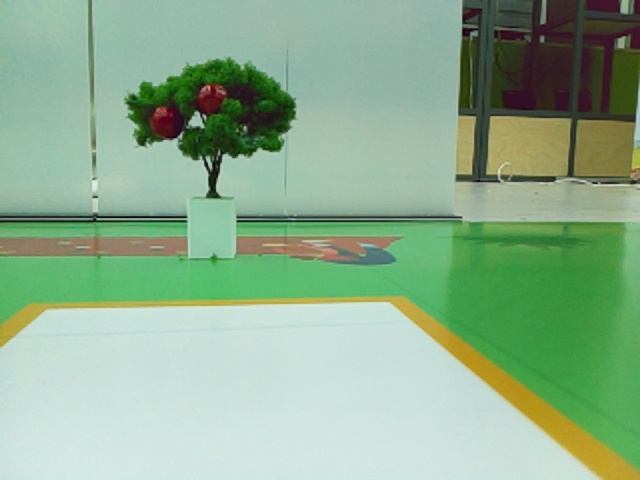apple: (198, 84, 227, 112), (152, 107, 174, 137)
